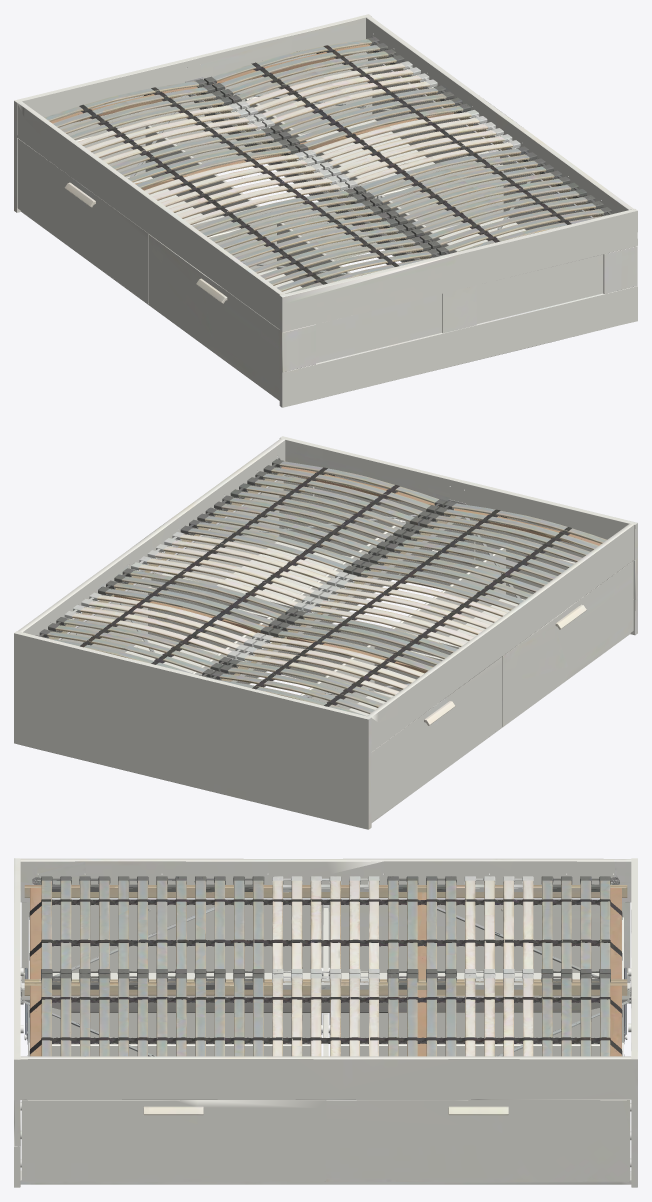
The model's file is 16 - BRIMNES - 雙人床框附抽屜, 白色Lönset, 150x200 公分 IKEA 線上購物.glb.
3 views of the same model, one above another, from view 1: azimuth 30°, elevation 25°; view 2: azimuth 150°, elevation 25°; view 3: azimuth 270°, elevation 25° (orthographic). The views are drawn at different scales.
Visible parts, largest first — view 1: 90124534-SKORVA001.001; view 2: 90124534-SKORVA001.001; view 3: 90124534-SKORVA001.001.
Boxes of the visible parts, box(x1,y1,x2,y2) form: 90124534-SKORVA001.001: box(14, 14, 637, 407); 90124534-SKORVA001.001: box(14, 436, 637, 829); 90124534-SKORVA001.001: box(14, 858, 637, 1187).
Size of the model in its own units: 1.63 by 0.4702 by 2.07.
Materials: 1 (1 with a texture image).
